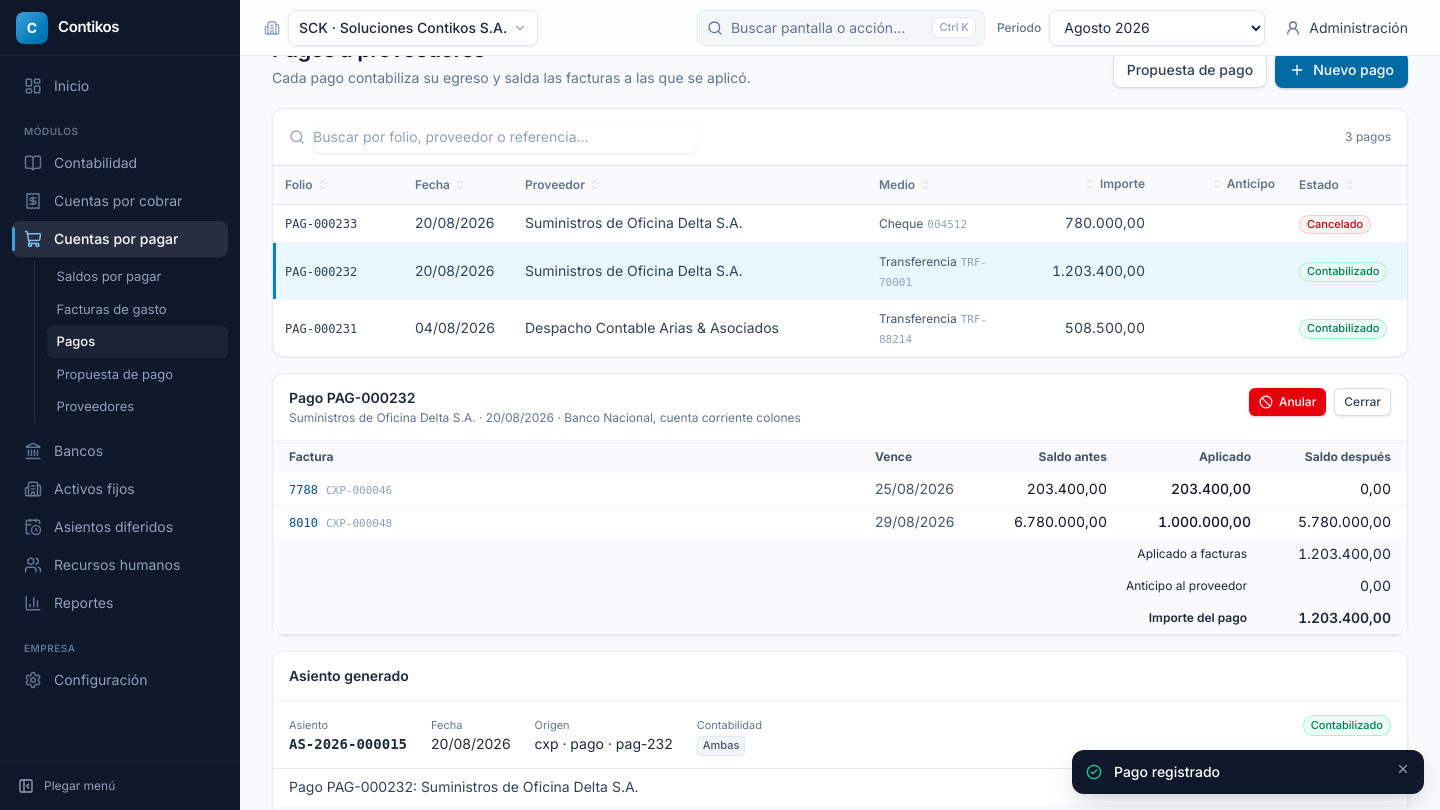
Test: Anular un pago › reversa el asiento, devuelve el saldo y deja el mayor cuadrado
(page scrolled)
Click the button "Anular": [1288, 402] box [1249, 388, 1326, 416]
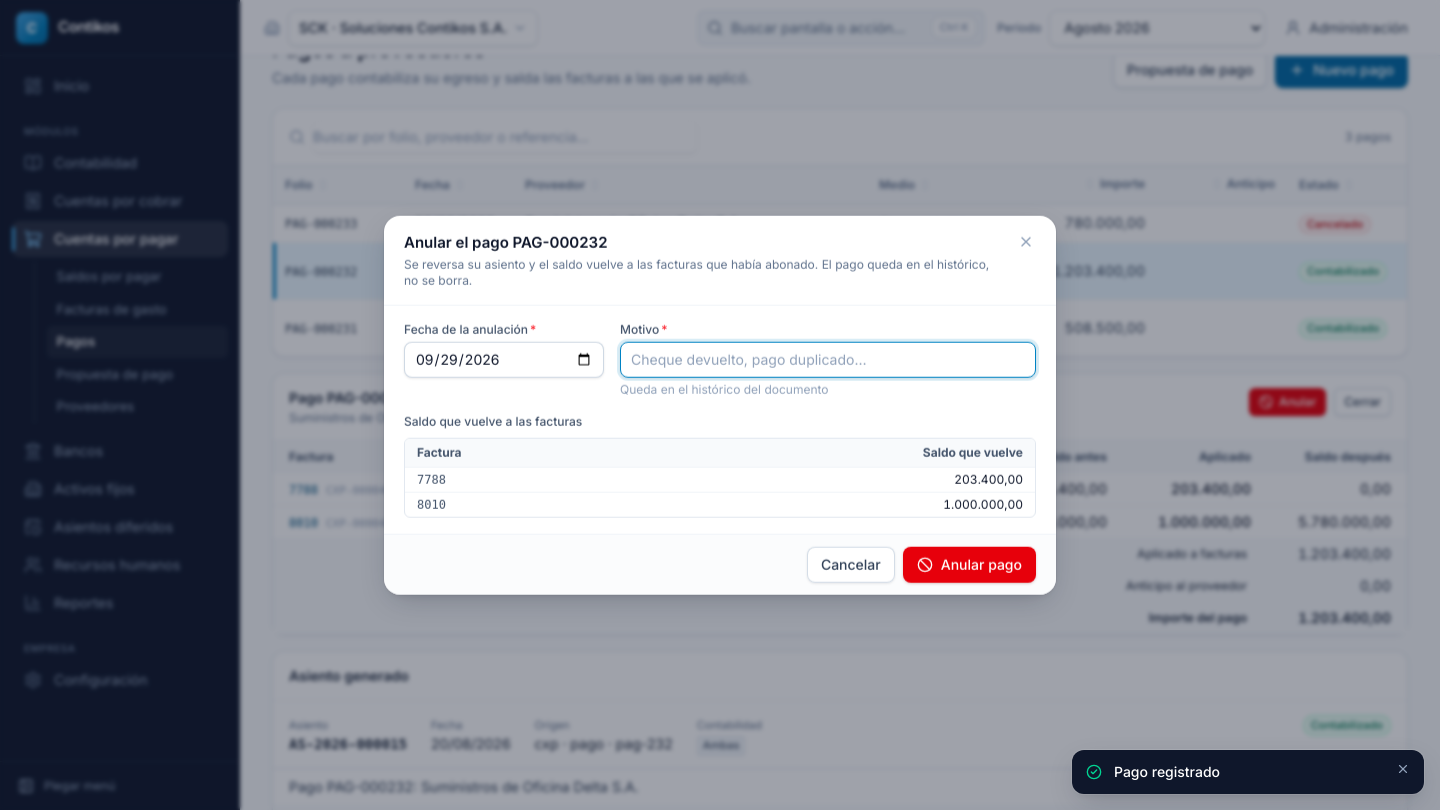
In the date field labelled "Fecha de la anulación*": [504, 359] box [404, 341, 604, 377], type "2026-08-31"
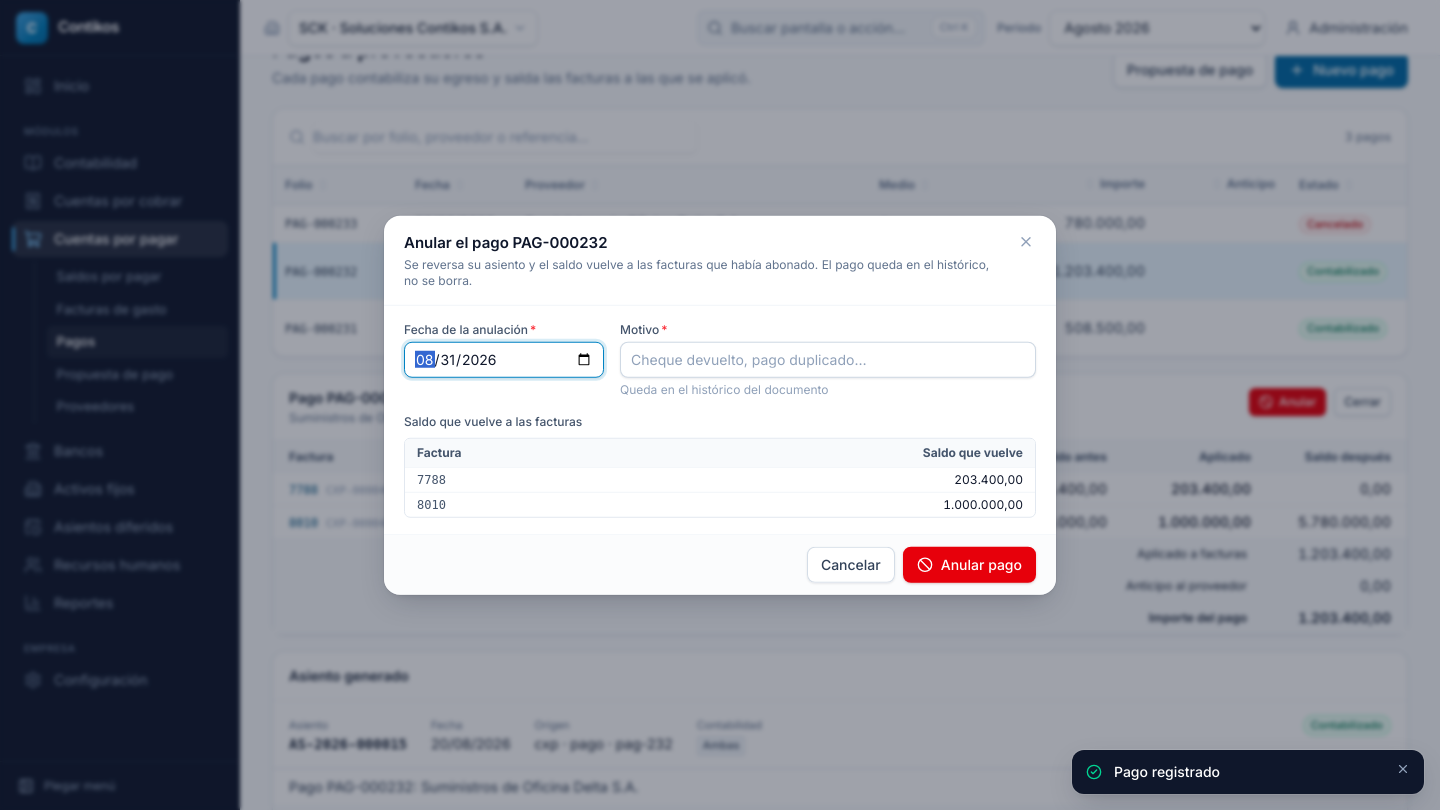
In the field labelled "Motivo*": [828, 359] box [620, 341, 1036, 377], type "Transferencia rechazada por el banco"
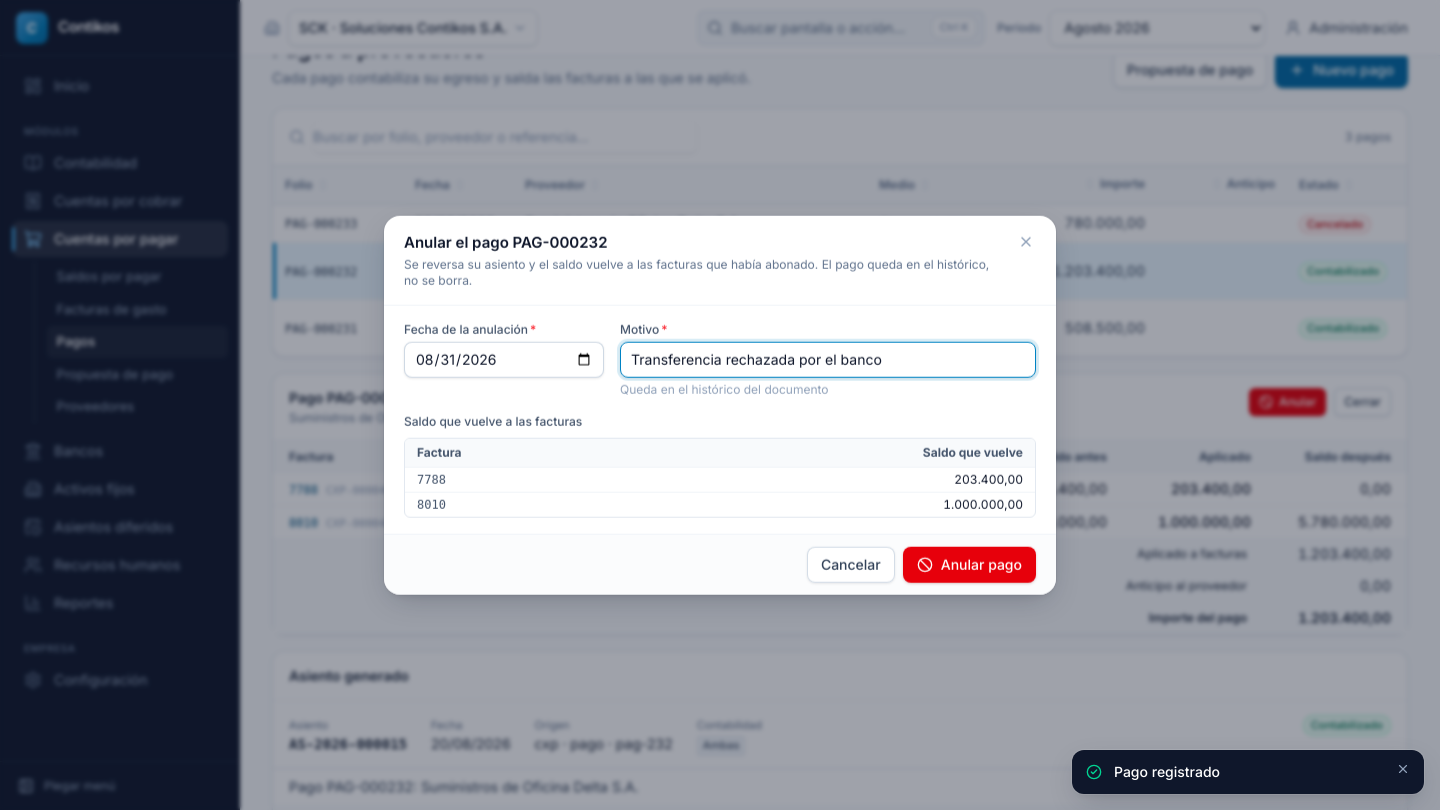
Click the button "Anular pago": [969, 564] box [903, 546, 1036, 582]
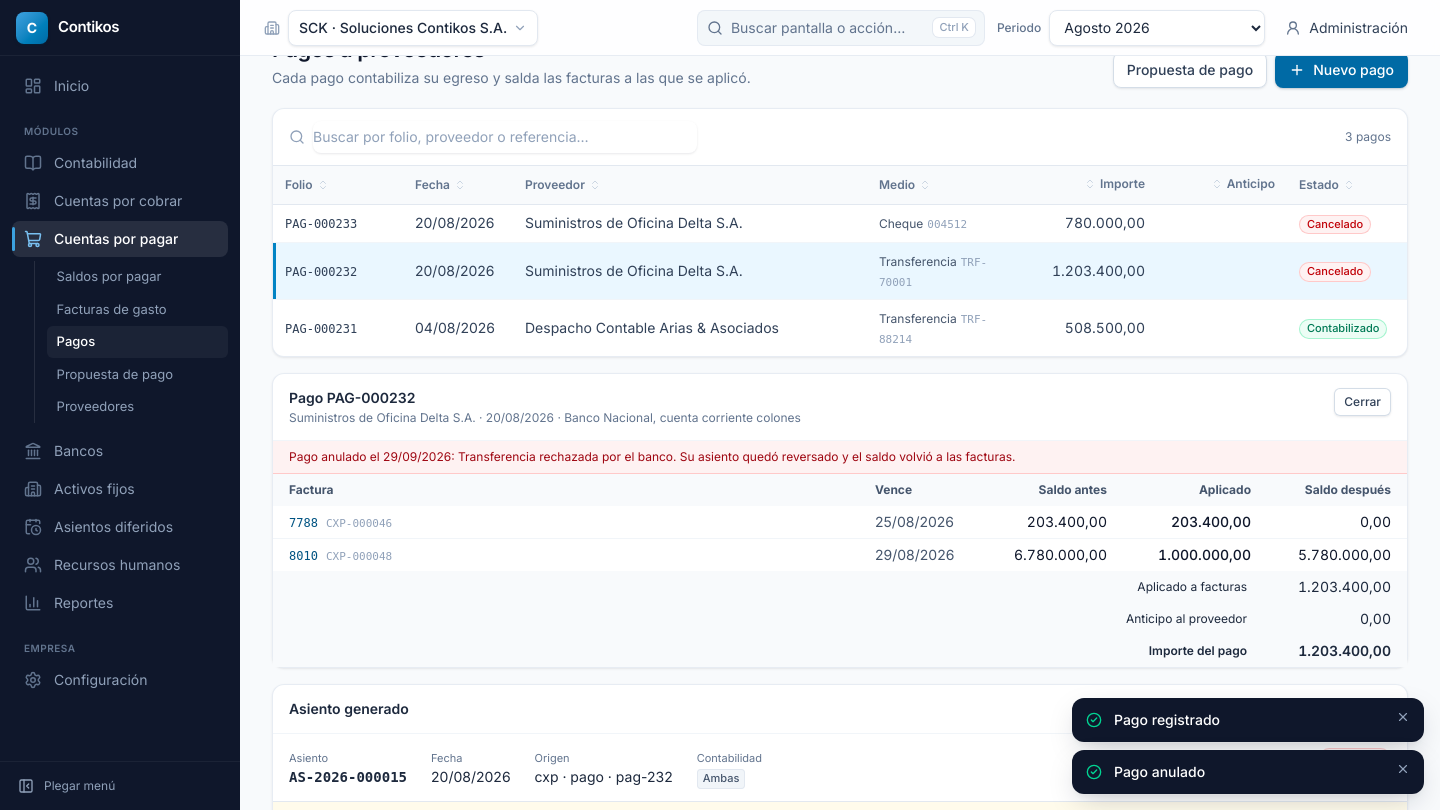
Now the text "Pago anulado" is shown, box [289, 449, 366, 464]
